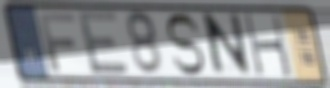8: (124, 10, 164, 79)
E: (75, 9, 132, 77)
F: (36, 12, 78, 74)
H: (241, 13, 295, 81)
N: (203, 11, 254, 80)
S: (163, 12, 207, 78)
